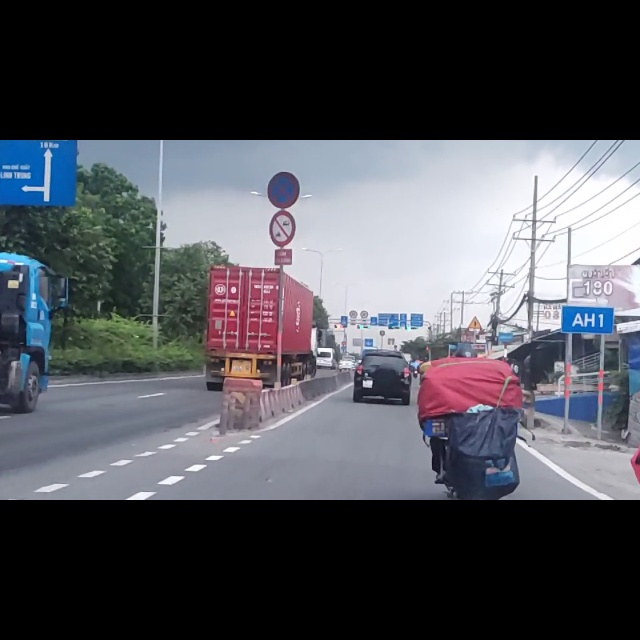bien_nguy_hiem: (267, 57, 300, 121), (269, 126, 296, 187)
